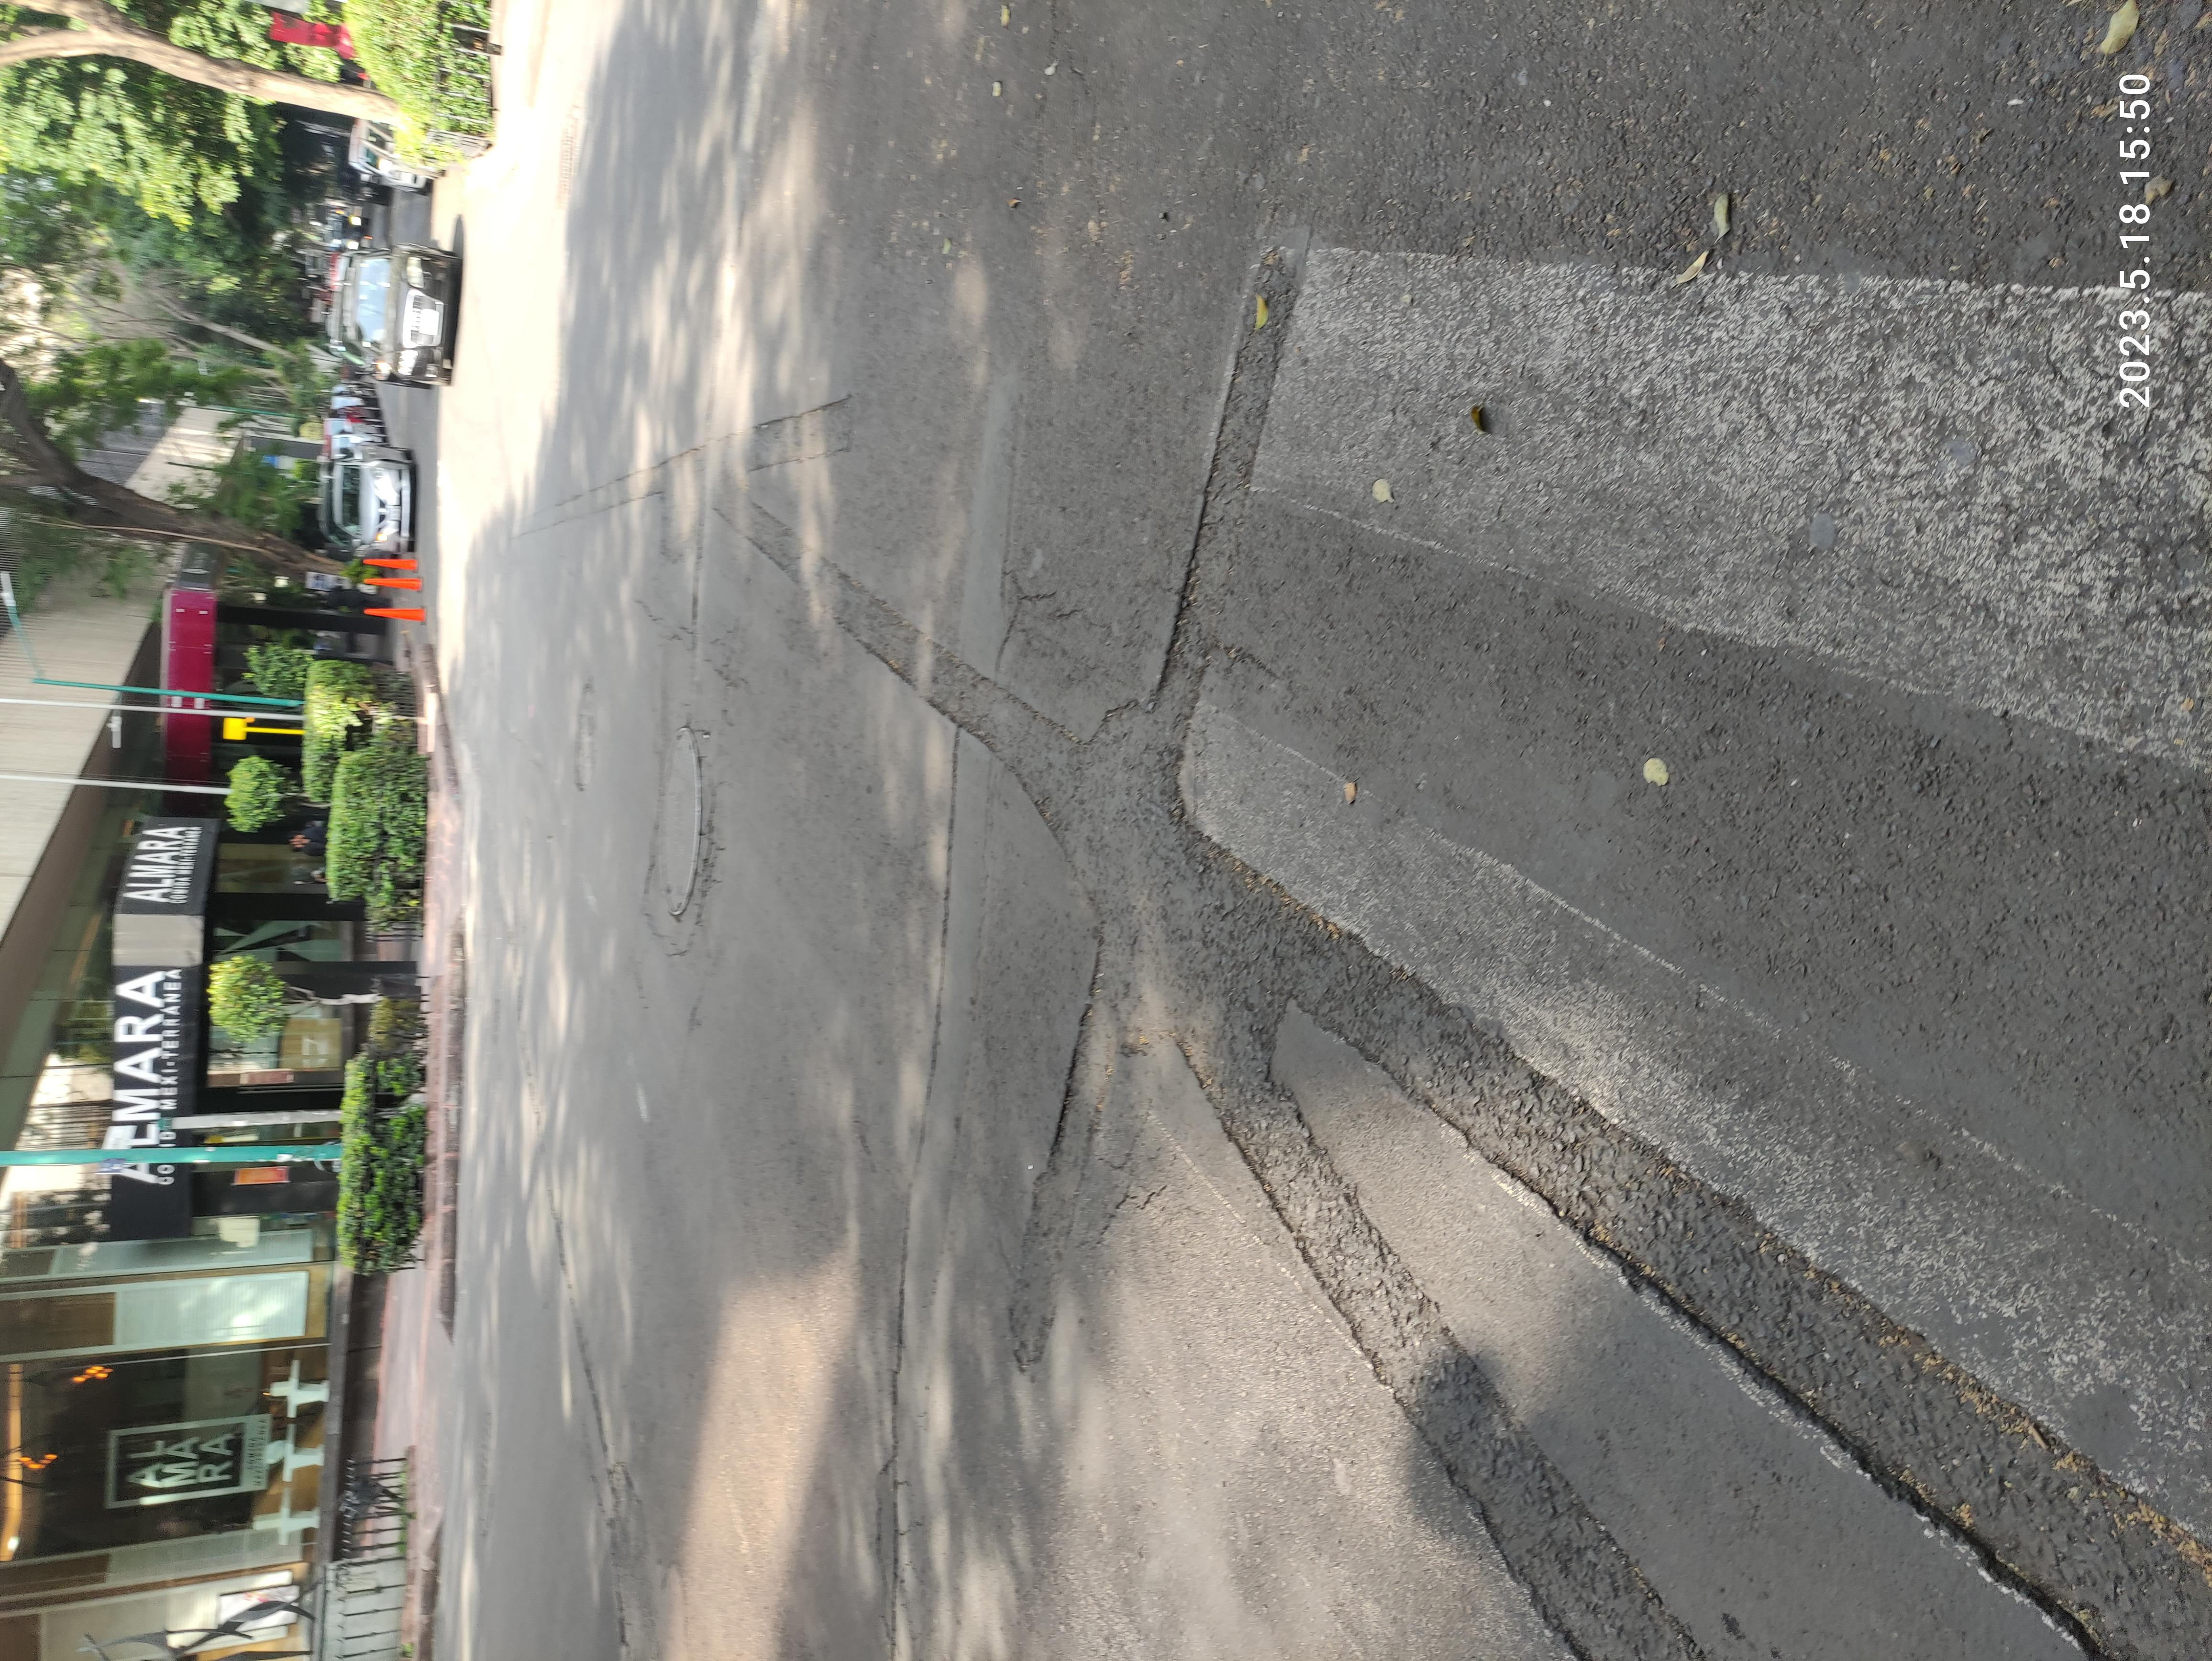alligator-crack: (977, 518, 1171, 546)
crack: (1310, 743, 1455, 836), (544, 815, 635, 878), (647, 824, 750, 865), (1240, 532, 1345, 565)
pothole: (391, 755, 947, 844)
